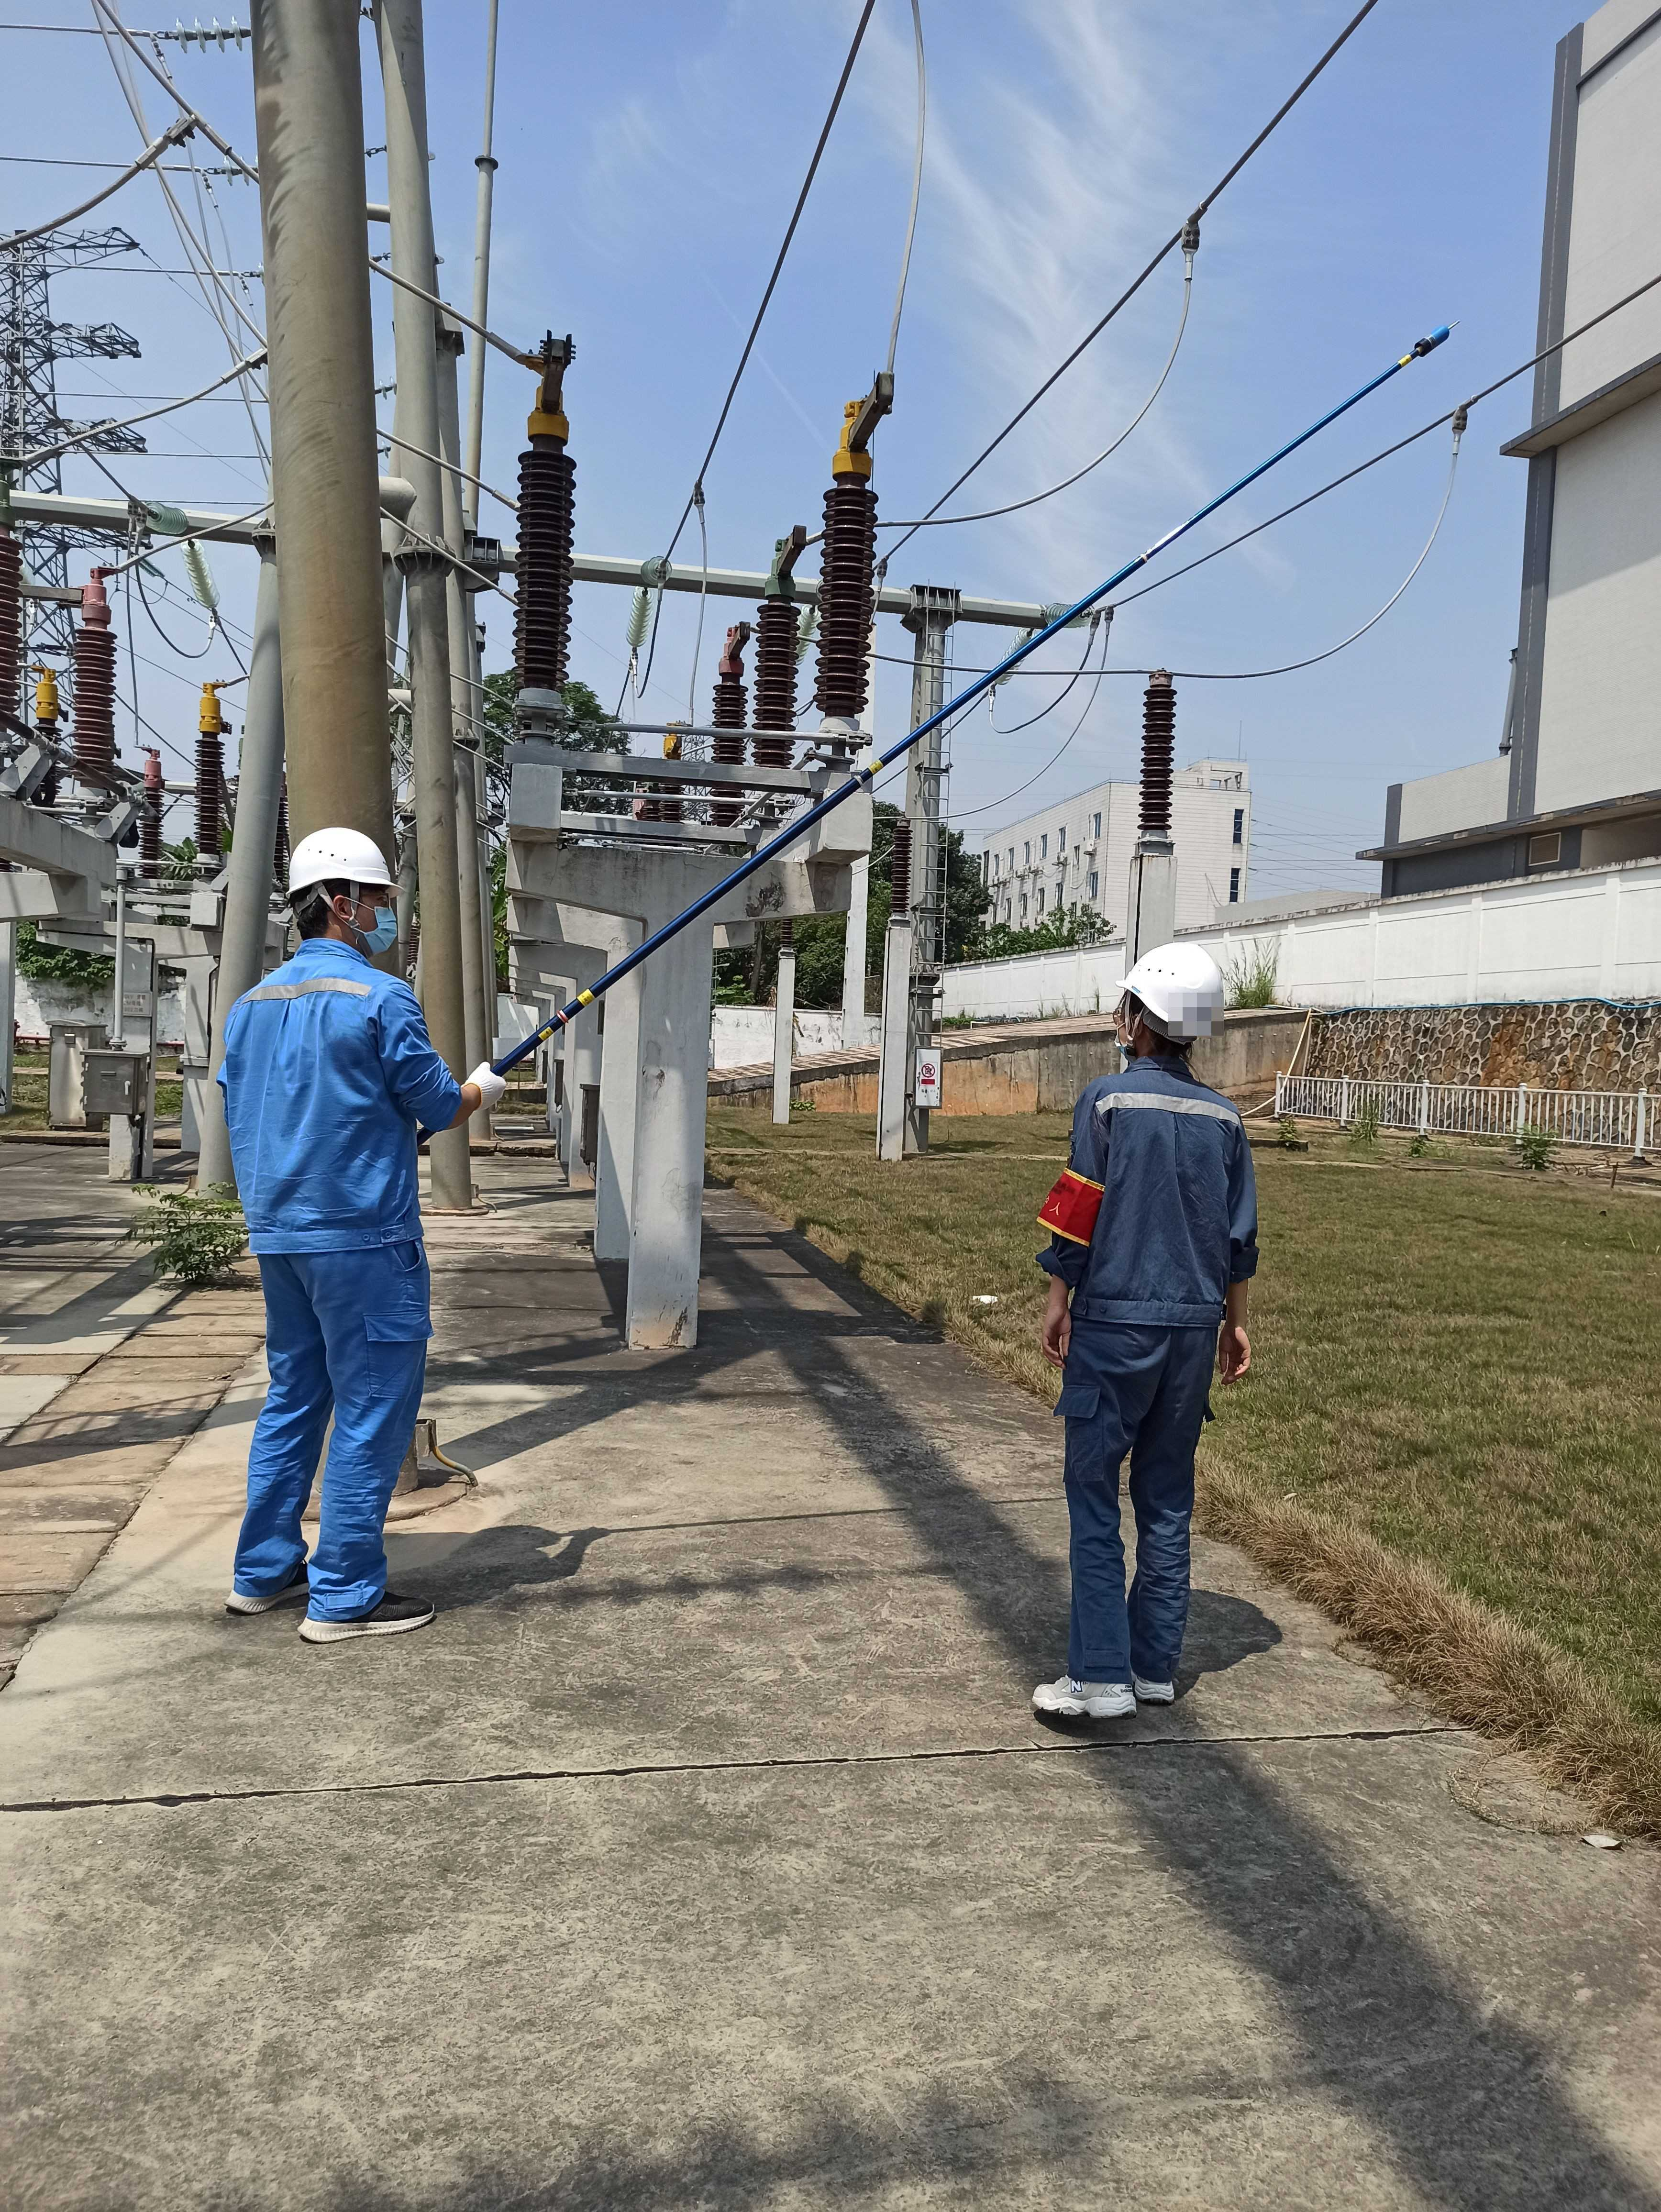downsuit: (229, 1270, 440, 1600), (1049, 1352, 1220, 1687)
upsuit: (204, 942, 471, 1253), (1031, 1061, 1265, 1331)
wrongtop: (1031, 1240, 1077, 1369), (1223, 1246, 1260, 1376), (438, 1078, 487, 1136)
